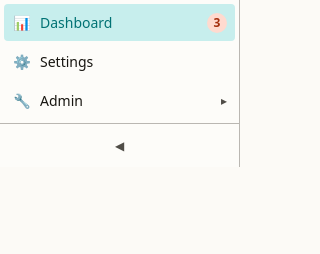
Sidebar › toggles nested section on click
Click the button "🔧 Admin ▸".
click(120, 100)  # box [4,82,235,119]
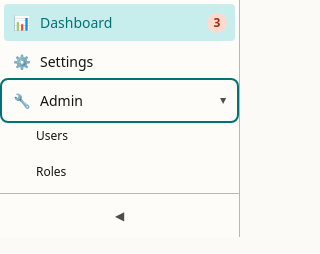
Expected: the text "Users" is shown, [36,127,68,144]
Click the button "🔧 Admin ▸".
click(120, 100)  # box [4,82,235,119]
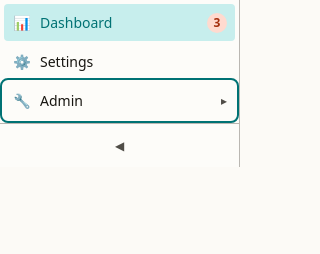
Expected: the button "Users" is gone
